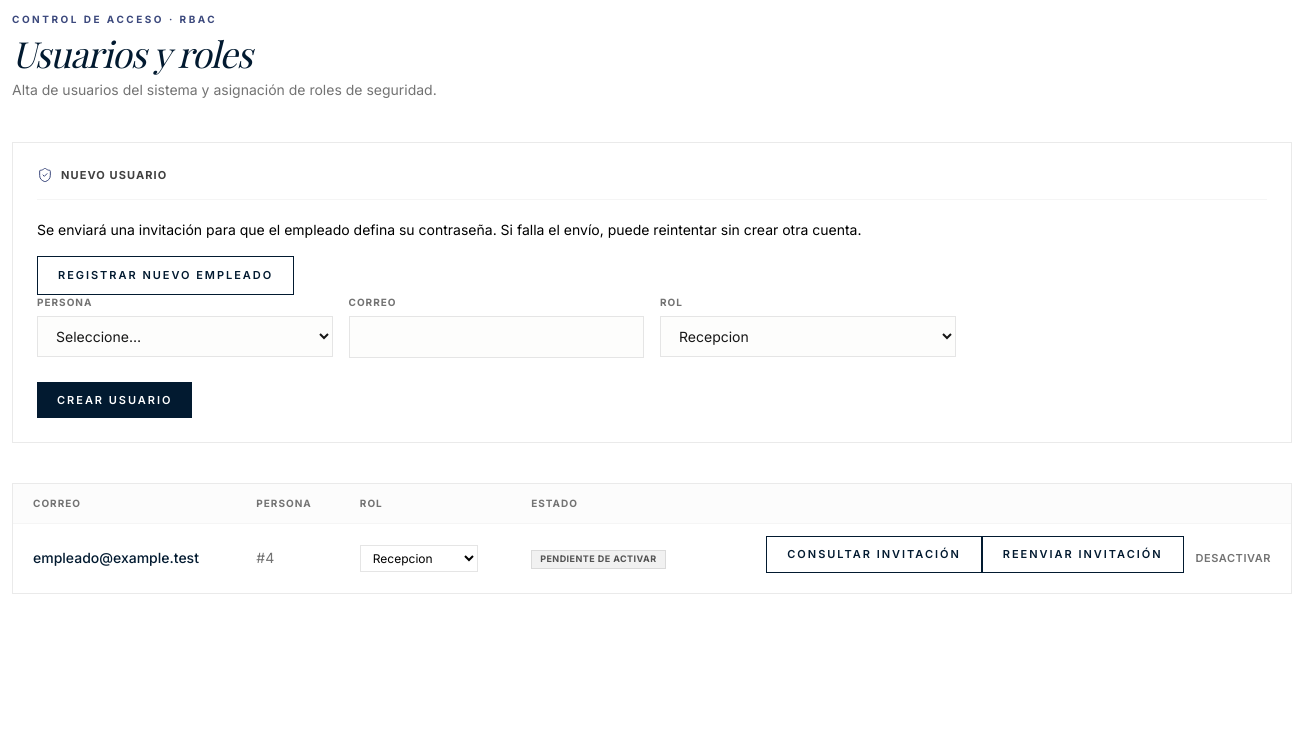
Test case: Administración invita al personal sin definir contraseñas › selecciona empleados y conserva la cuenta pendiente si falla el correo
Select "Empleado (empleado)" in the dropdown labelled "Persona" at (185, 336), box [37, 316, 332, 357]
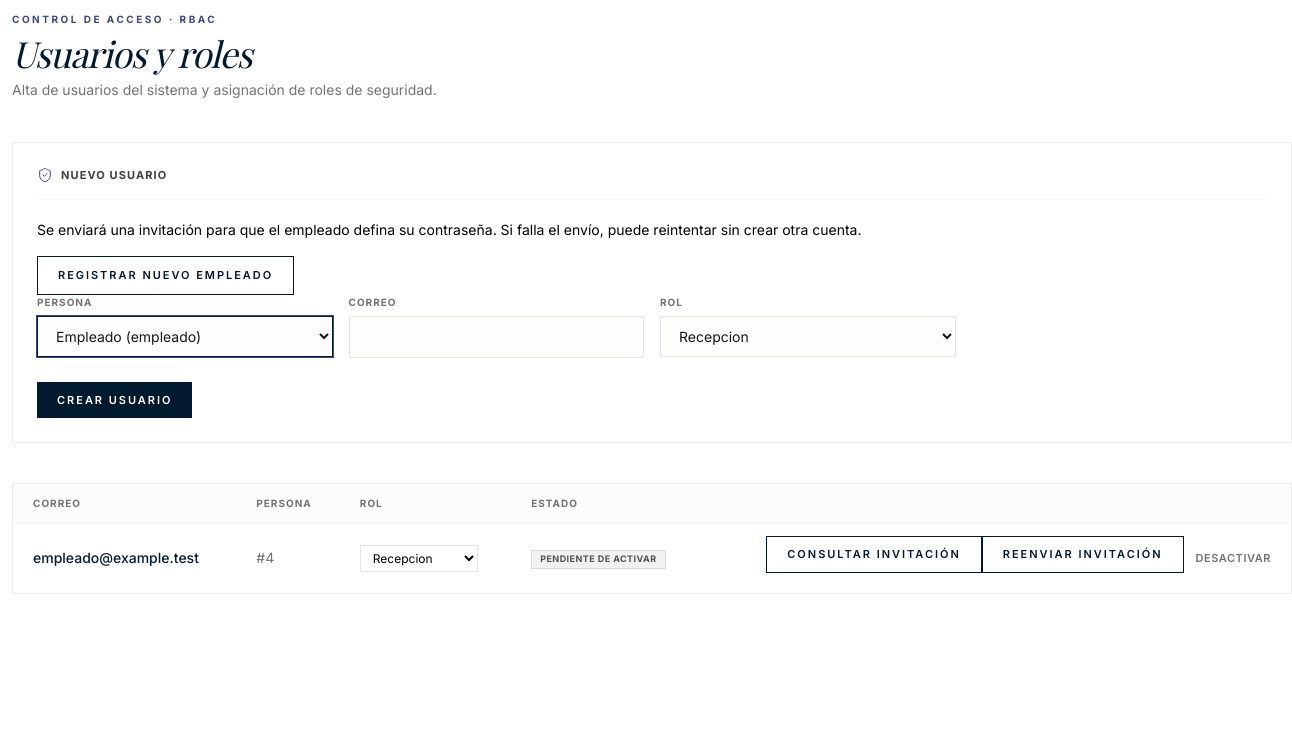
Type "empleado@example.test" into the field at (496, 337), box [348, 316, 644, 358]
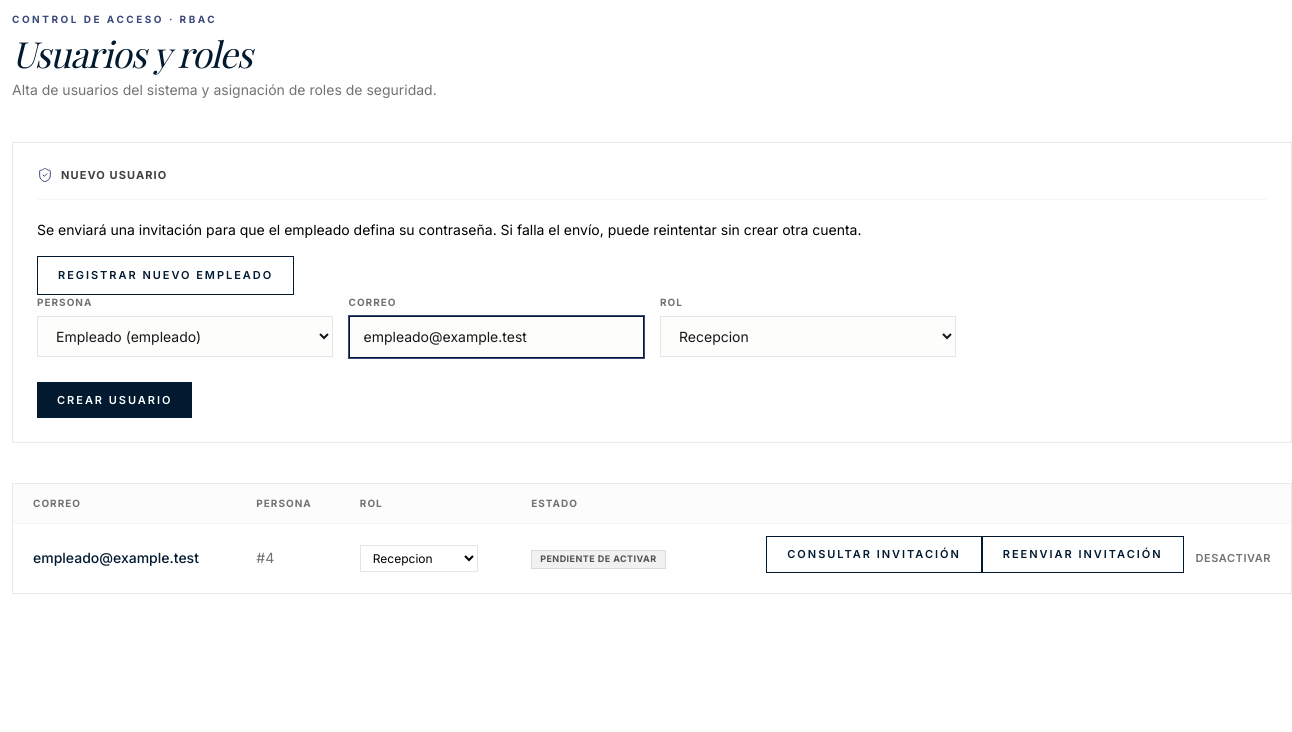
Click the button "Crear usuario" at (115, 400), box [37, 382, 192, 418]
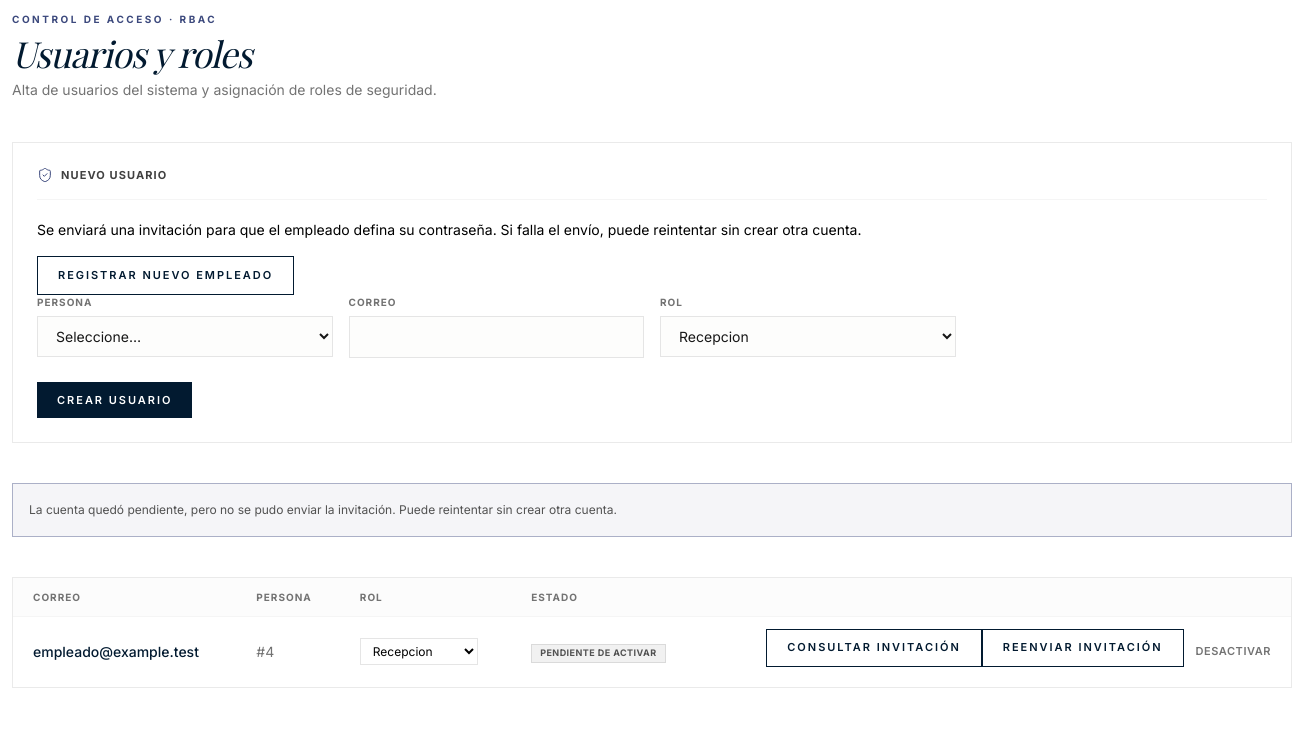
Expected: the text "La cuenta quedó pendiente, pero no se pudo enviar" is shown, [29, 502, 617, 517]
